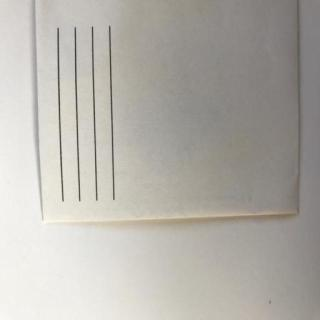Anorganik: (33, 3, 309, 229)
